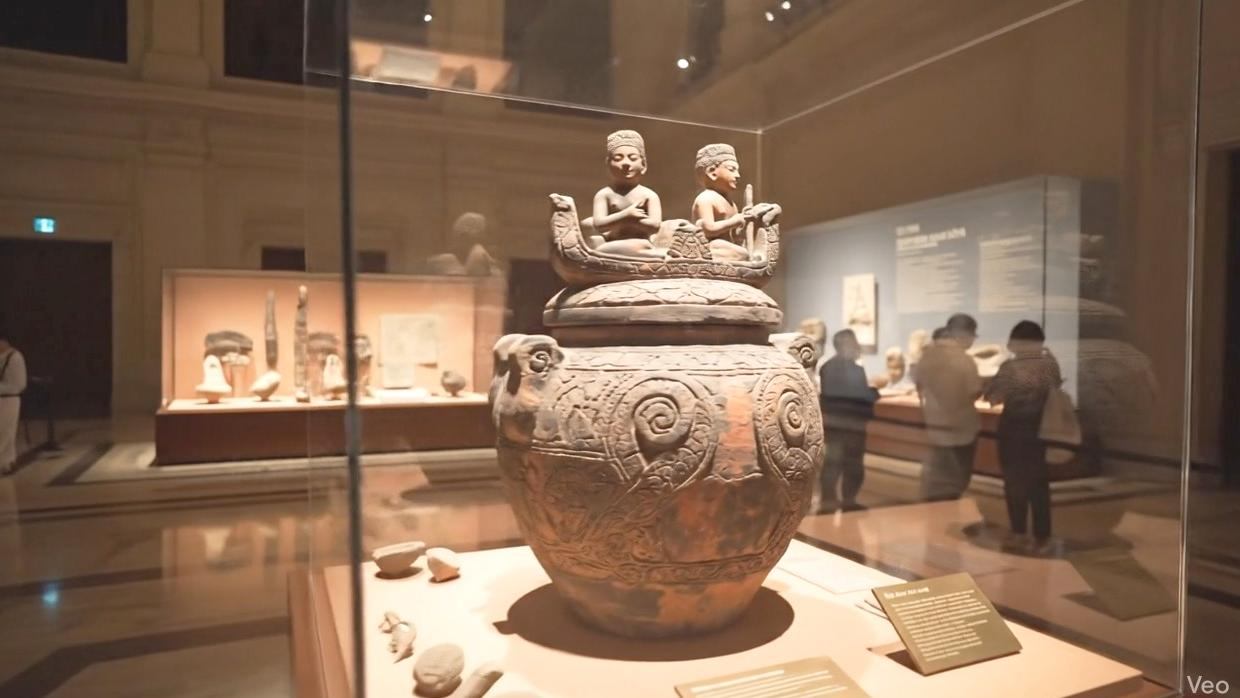manunggul_jar: (446, 91, 839, 644)
